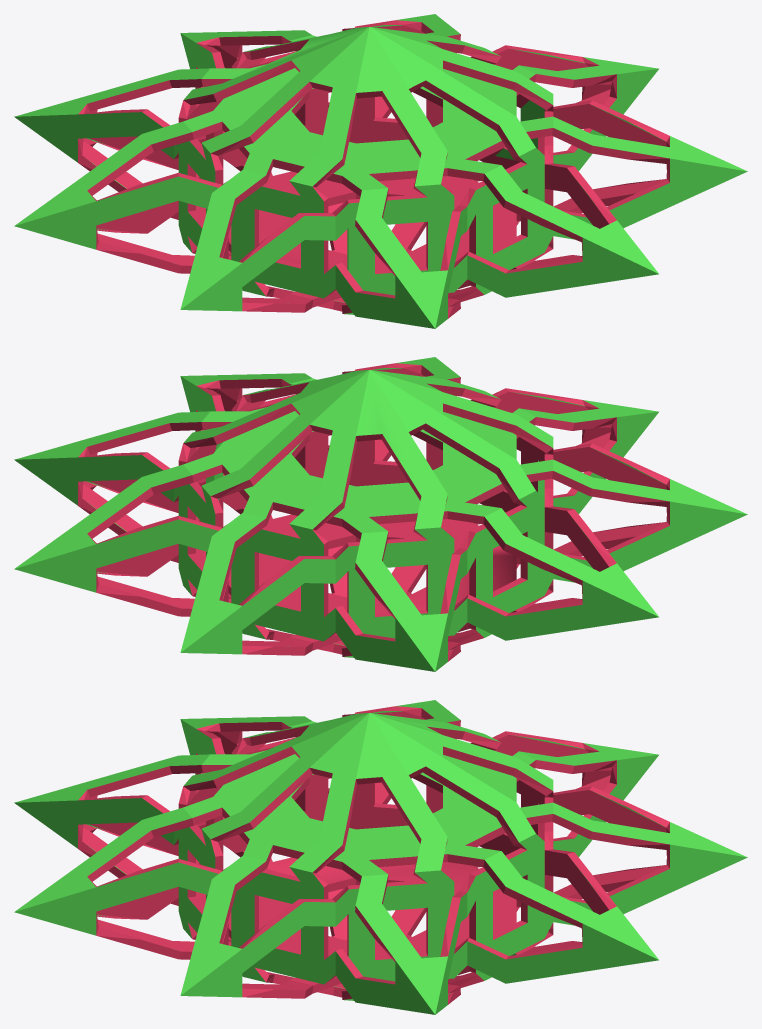
The model's file is PrismicPolyknot9.glb.
3 views of the same model, one above another, from view 1: azimuth 30°, elevation 25°; view 2: azimuth 150°, elevation 25°; view 3: azimuth 270°, elevation 25° (orthographic).
Parts seen in each view (by area): view 1: 3D_ESCHER_prism9; view 2: 3D_ESCHER_prism9; view 3: 3D_ESCHER_prism9.
Part boxes in pixels (x1,y1,x2,y2): 3D_ESCHER_prism9: (14,14,747,328); 3D_ESCHER_prism9: (14,357,747,671); 3D_ESCHER_prism9: (14,700,747,1014).
Bounding box in the file's own units: 136 × 58.29 × 134.
